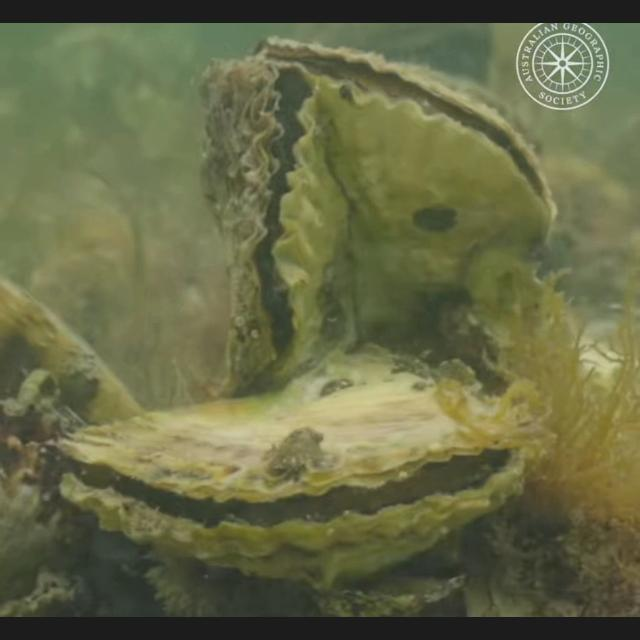Oyster-Closed: (0, 272, 146, 432)
Oyster-Open: (54, 342, 530, 592), (257, 35, 558, 357), (199, 55, 353, 401)
